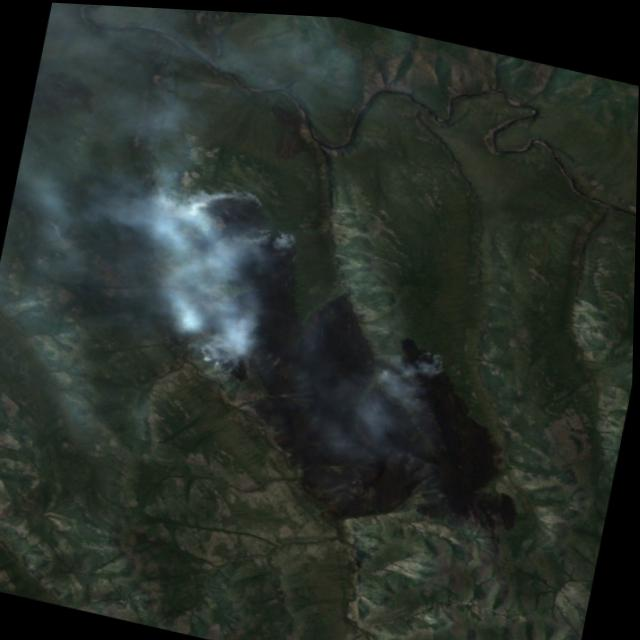fire: (152, 170, 312, 392), (376, 329, 455, 389)
